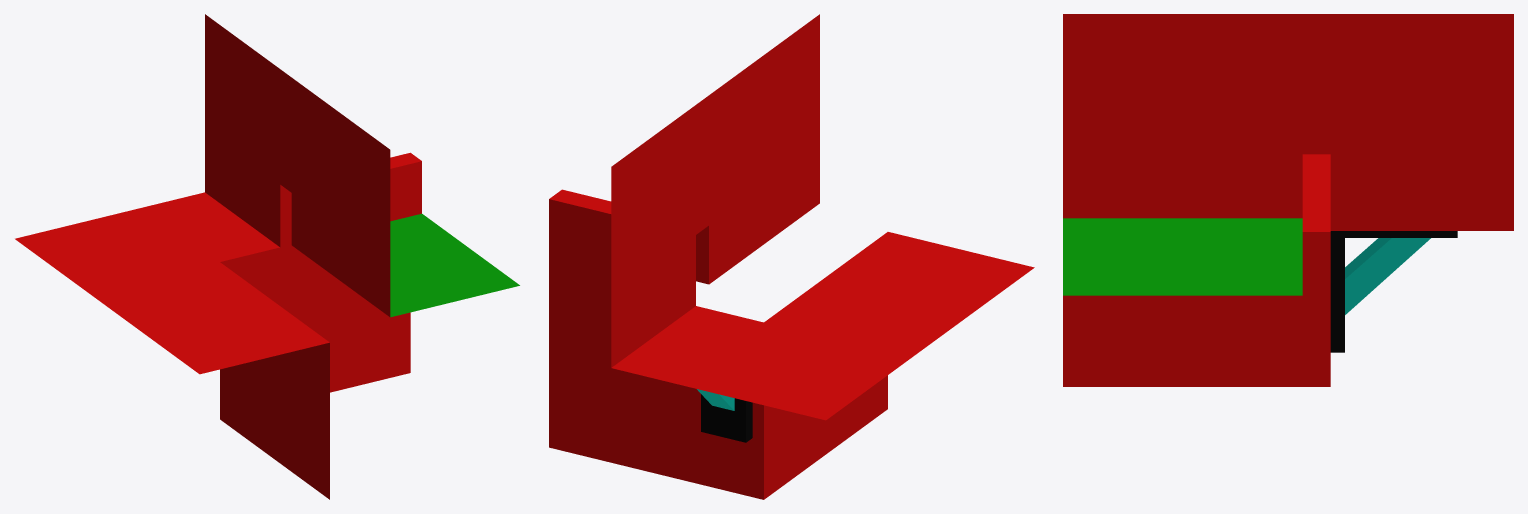
The picture shows the model from 3 angles, left to right: view 1: azimuth 30°, elevation 25°; view 2: azimuth 150°, elevation 25°; view 3: azimuth 270°, elevation 25°; orthographic projection. The views are drawn at different scales.
Visible parts, largest first — view 1: None_E_W_E_E_E_E_A_A_None; view 2: None_E_W_E_E_E_E_A_A_None; view 3: None_E_W_E_E_E_E_A_A_None.
Boxes of the visible parts, <box> form: None_E_W_E_E_E_E_A_A_None: <box>15,14,519,499</box>; None_E_W_E_E_E_E_A_A_None: <box>549,14,1034,499</box>; None_E_W_E_E_E_E_A_A_None: <box>1063,14,1513,386</box>.
Bounding box in the file's own units: 100 × 100 × 100.
